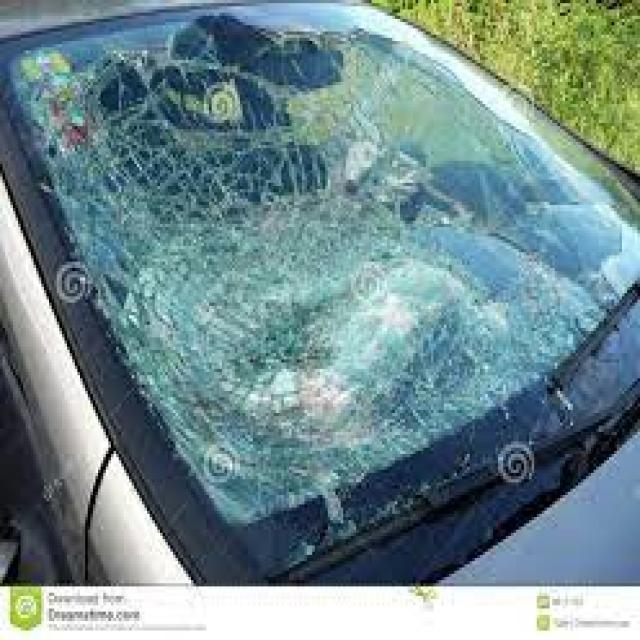damaged-window: (3, 1, 640, 538)
